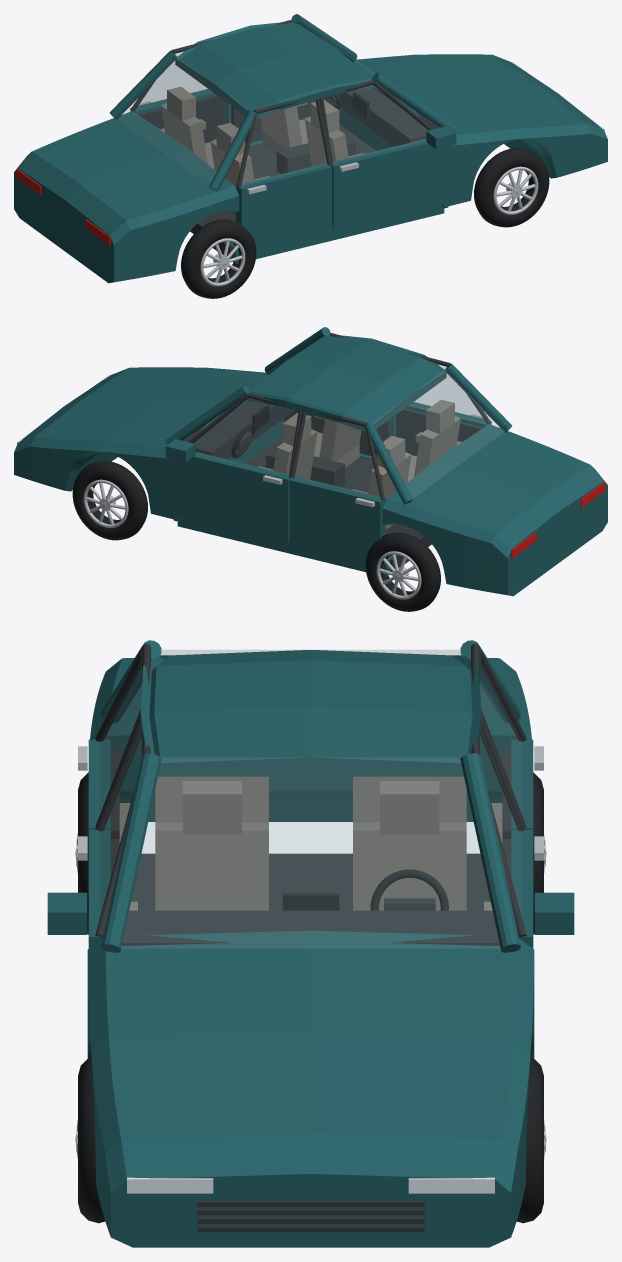
File: journey-sedan.glb
3 views of the same model, one above another, from view 1: azimuth 30°, elevation 25°; view 2: azimuth 150°, elevation 25°; view 3: azimuth 270°, elevation 25° (orthographic). The views are drawn at different scales.
Parts seen in each view (by area): view 1: Boot, Bonnet, Crowned roof, Laminated windshield.001, Door skin, Door skin.001, Side glazing, Side glazing.001, Tire.002, Tire, Instrument panel, Sill (+21 smaller); view 2: Boot, Bonnet, Crowned roof, Laminated windshield.001, Door skin.002, Door skin.003, Side glazing.002, Side glazing.003, Tire.003, Tire.001, Instrument panel, Sill.001 (+21 smaller); view 3: Bonnet, Laminated windshield, Crowned roof, Instrument panel, Boot, Contoured seat back.002, Contoured seat back.003, Cabin floor, Pillar, Pillar.001, Head restraint.002, Head restraint.003 (+31 smaller).
Part boxes in pixels (left/top/right/bottom): Boot: left=14, top=111, right=239, bottom=283; Bonnet: left=338, top=54, right=607, bottom=207; Crowned roof: left=175, top=22, right=375, bottom=119; Laminated windshield.001: left=116, top=55, right=248, bottom=185; Door skin: left=330, top=139, right=443, bottom=230; Door skin.001: left=236, top=163, right=332, bottom=249; Side glazing: left=324, top=85, right=427, bottom=163; Side glazing.001: left=241, top=101, right=327, bottom=185; Tire.002: left=474, top=148, right=549, bottom=227; Tire: left=181, top=219, right=256, bottom=298; Instrument panel: left=331, top=88, right=438, bottom=146; Sill: left=229, top=204, right=444, bottom=263; Boot: left=382, top=424, right=607, bottom=596; Bonnet: left=14, top=367, right=283, bottom=520; Crowned roof: left=246, top=335, right=446, bottom=432; Laminated windshield.001: left=373, top=368, right=505, bottom=498; Door skin.002: left=178, top=452, right=291, bottom=543; Door skin.003: left=289, top=476, right=385, bottom=562; Side glazing.002: left=194, top=398, right=297, bottom=476; Side glazing.003: left=294, top=414, right=380, bottom=498; Tire.003: left=72, top=461, right=147, bottom=540; Tire.001: left=365, top=532, right=440, bottom=611; Instrument panel: left=183, top=401, right=294, bottom=459; Sill.001: left=177, top=517, right=392, bottom=576; Bonnet: left=87, top=930, right=534, bottom=1247; Laminated windshield: left=122, top=758, right=499, bottom=948; Crowned roof: left=140, top=650, right=481, bottom=776; Instrument panel: left=122, top=910, right=499, bottom=945; Boot: left=90, top=658, right=531, bottom=821; Contoured seat back.002: left=155, top=822, right=268, bottom=910; Contoured seat back.003: left=353, top=822, right=466, bottom=910; Cabin floor: left=131, top=853, right=490, bottom=910; Pillar: left=101, top=753, right=161, bottom=952; Pillar.001: left=460, top=753, right=520, bottom=952; Head restraint.002: left=182, top=781, right=241, bottom=834; Head restraint.003: left=380, top=781, right=439, bottom=834.
Size of the model in its own units: 4.65 by 1.55 by 2.13.
